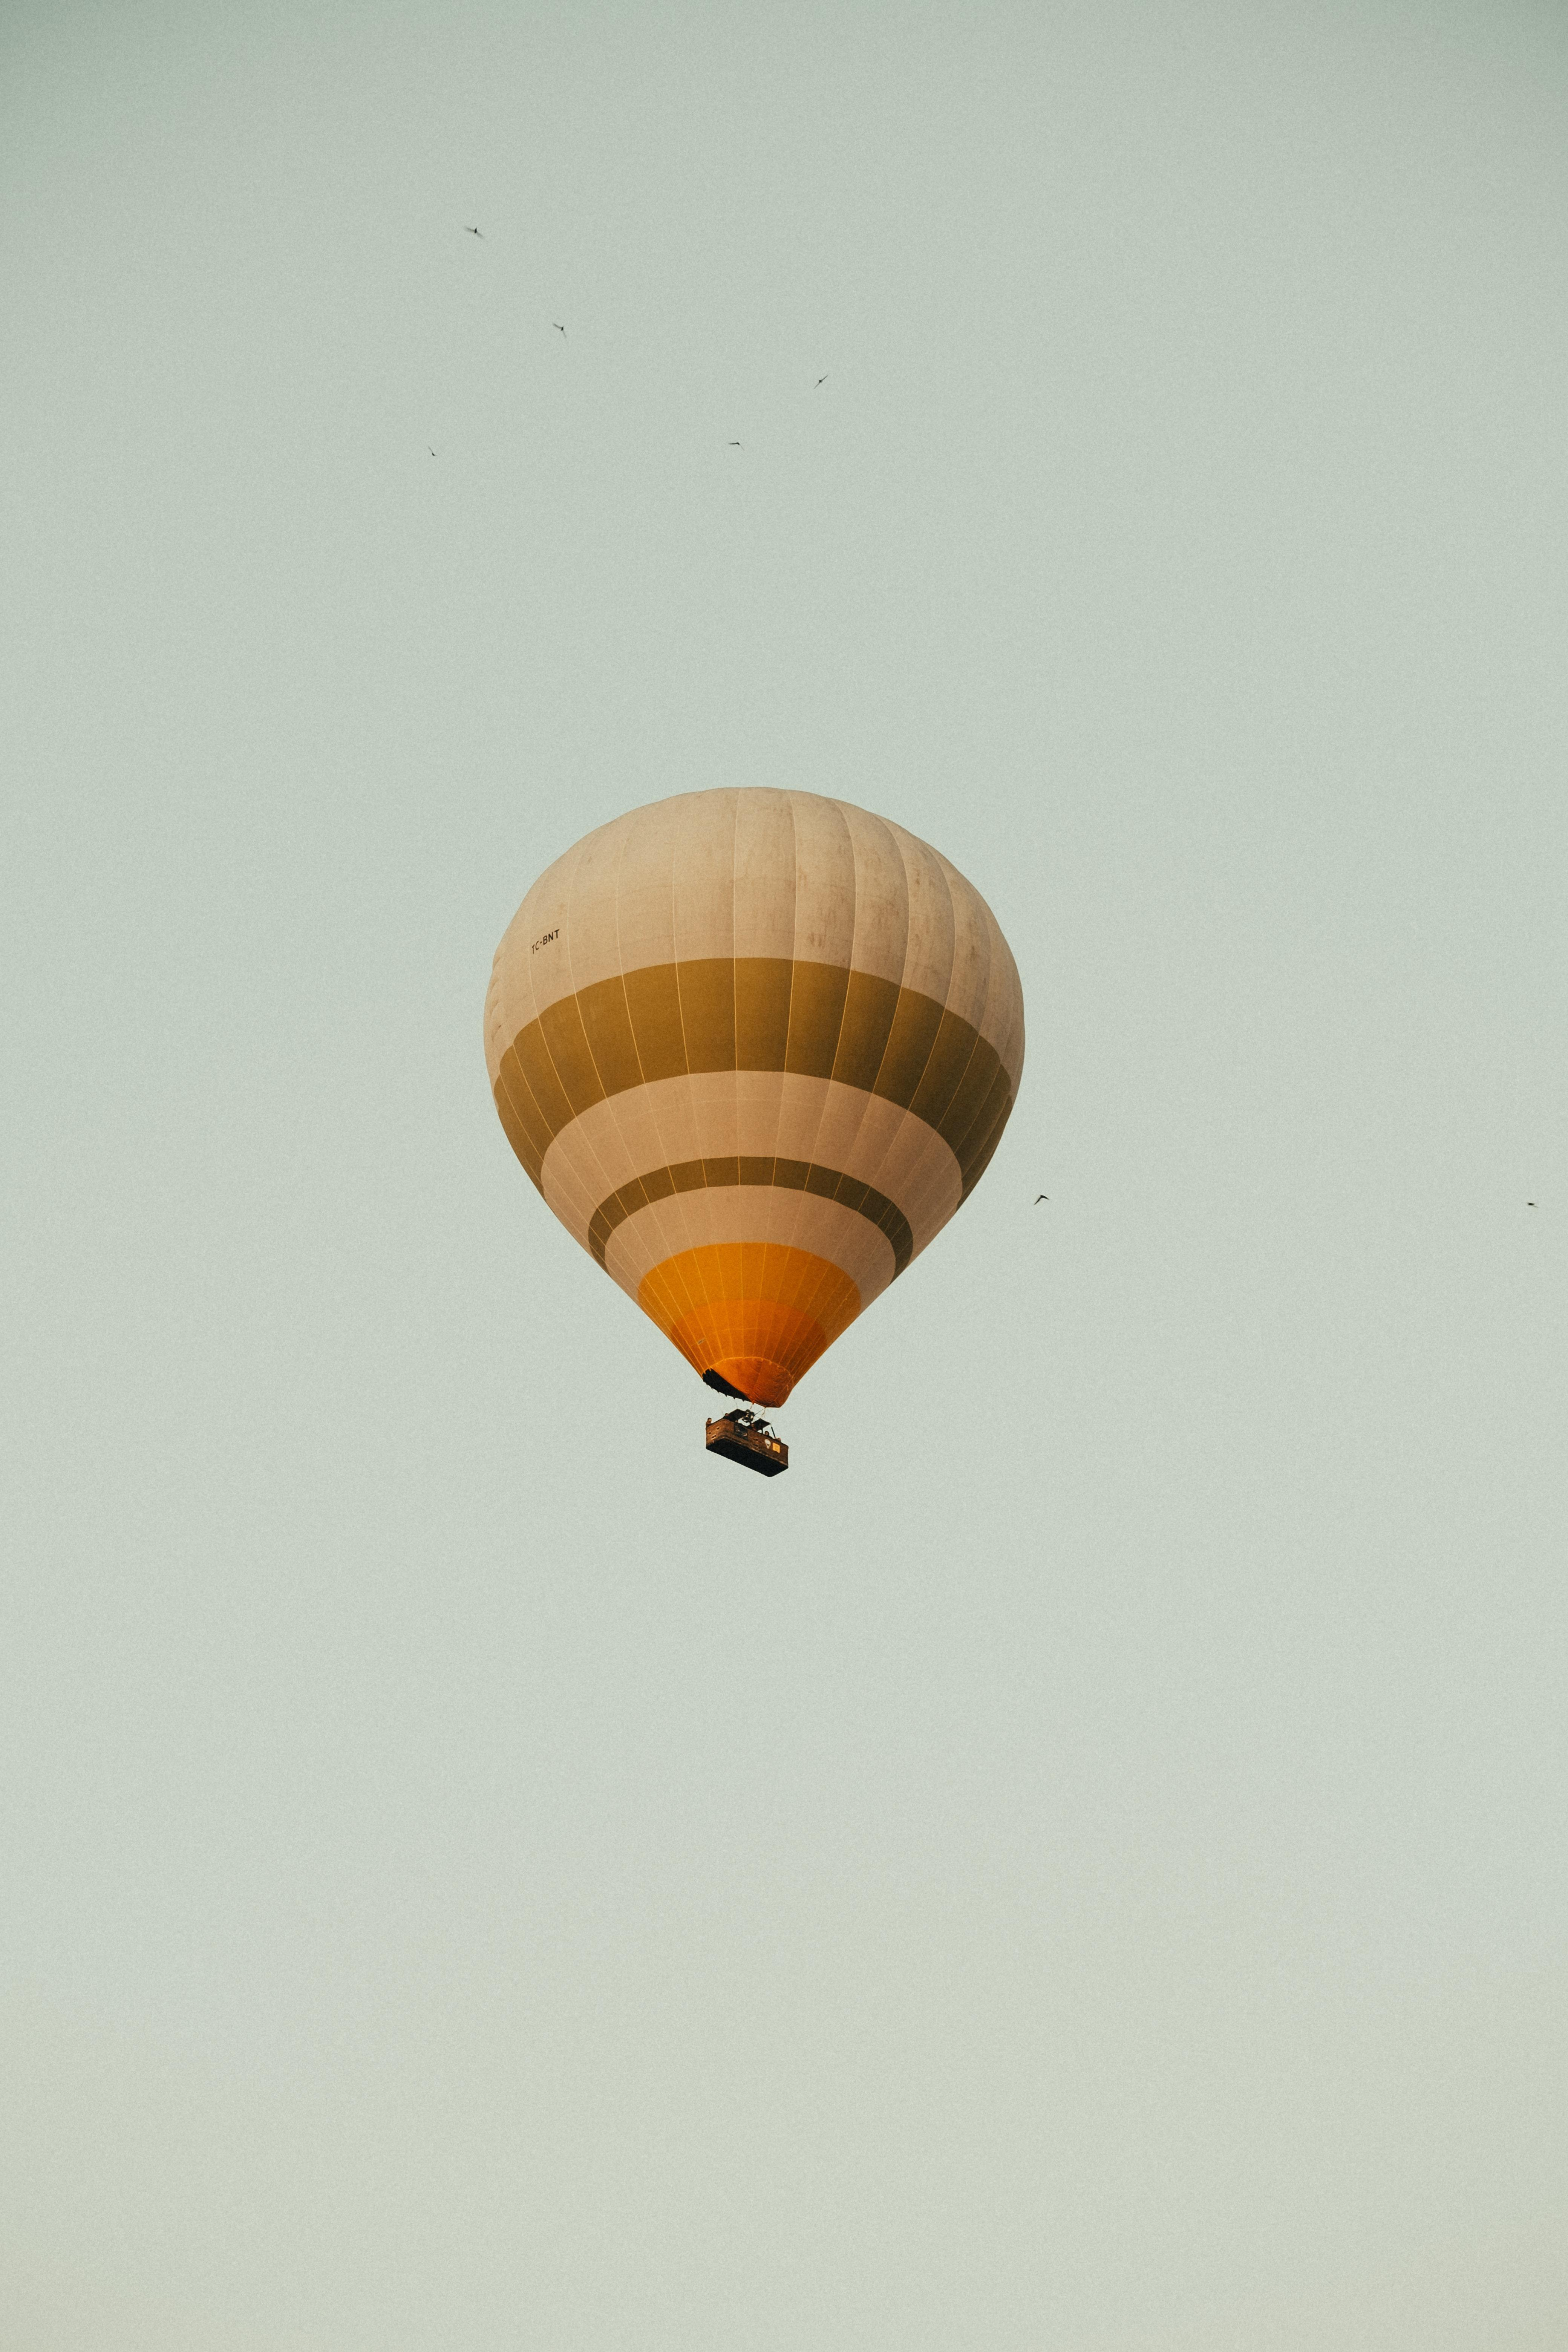hot air ballon: (476, 777, 1034, 1491)
